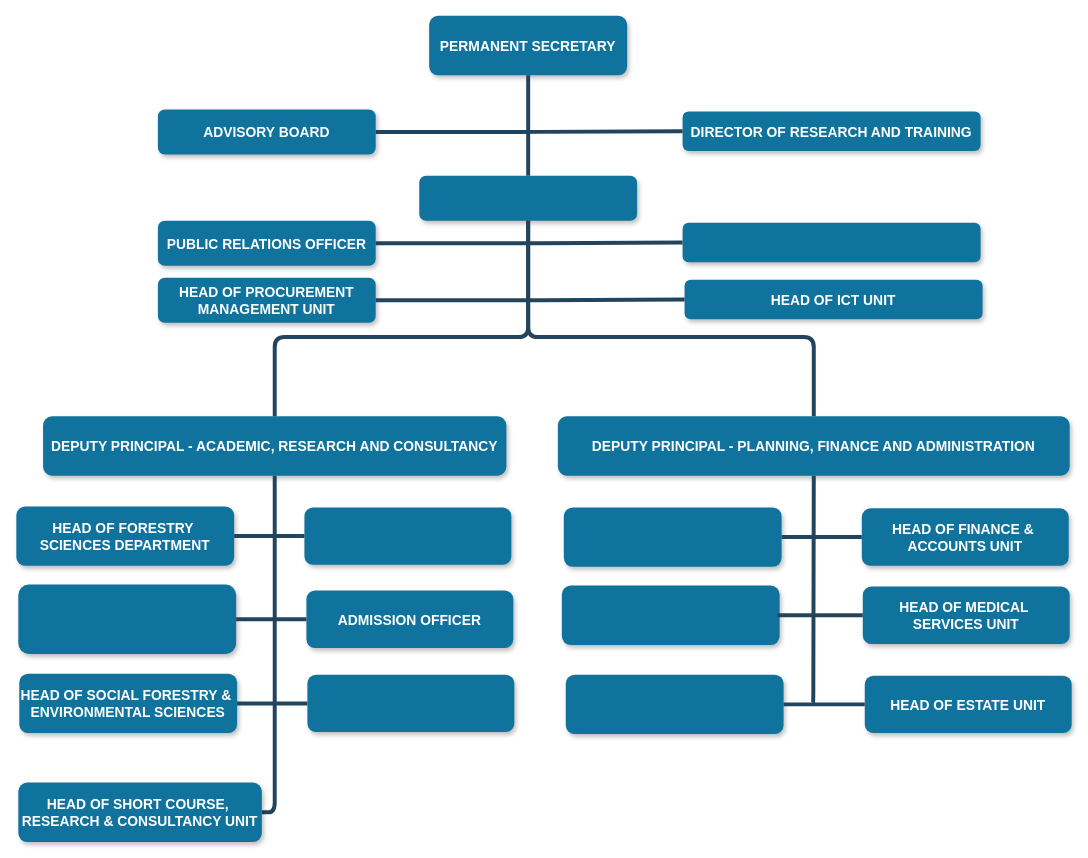
Image size: 1088x858. Some labels were removed from this diagram. Here are the shapes that lost their labels. From the top down, the centre of each, then its label:
At [529,199]: "PRINCIPAL".
At [832,243]: "QUALITY ASSURANCE OFFICER".
At [408,537]: "HEAD OF LIBRARY SERVICES UNIT".
At [673,538]: "HUMAN RESOURCE OFFICER".
At [128,620]: "HEAD OF NATURAL RESOURCES ASSESSMENT & MANAGEMENT DEPARTMENT".
At [671,616]: "HEAD OF PLANNING, BUSINESS & BUDGETING UNIT".
At [411,704]: "EXAMINATION OFFICER".
At [675,705]: "DEAN OF STUDENTS".
